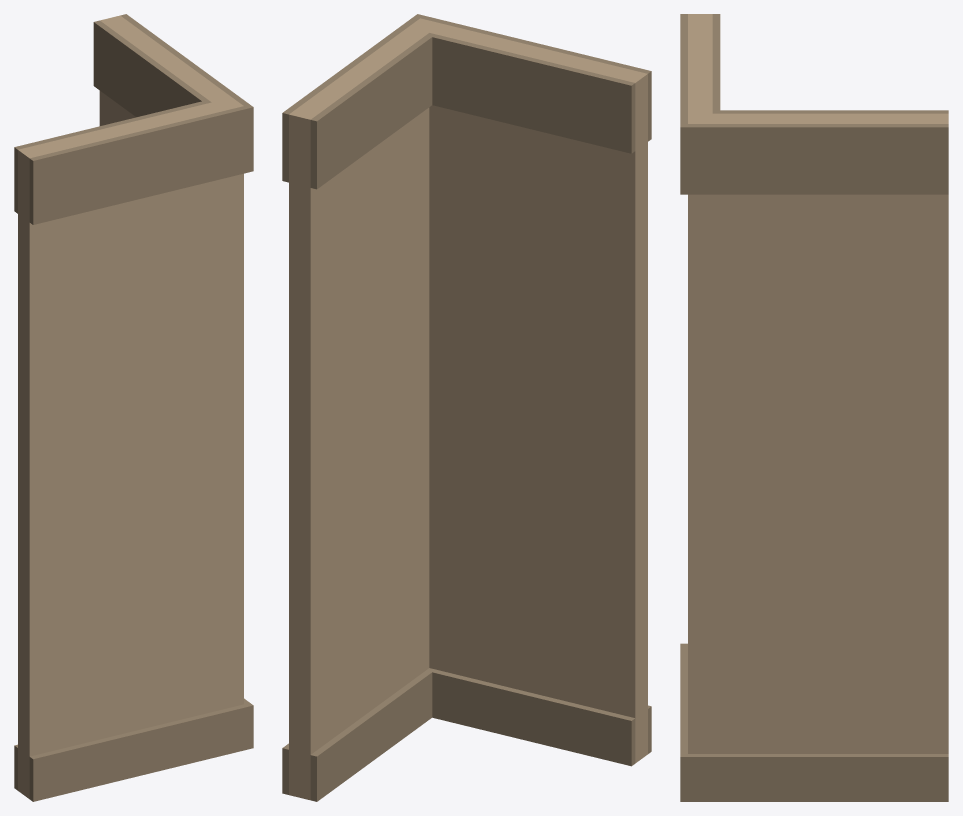
File: Parede_B.fbx
3 views of the same model, side by side, from view 1: azimuth 30°, elevation 25°; view 2: azimuth 150°, elevation 25°; view 3: azimuth 270°, elevation 25° (orthographic). The views are drawn at different scales.
Visible parts, largest first — view 1: Parede_B; view 2: Parede_B; view 3: Parede_B.
Part boxes in pixels (<box>): Parede_B: <box>14,14,253,801</box>; Parede_B: <box>282,14,651,801</box>; Parede_B: <box>680,14,948,801</box>.
Bounding box in the file's own units: 108 × 300 × 108.
